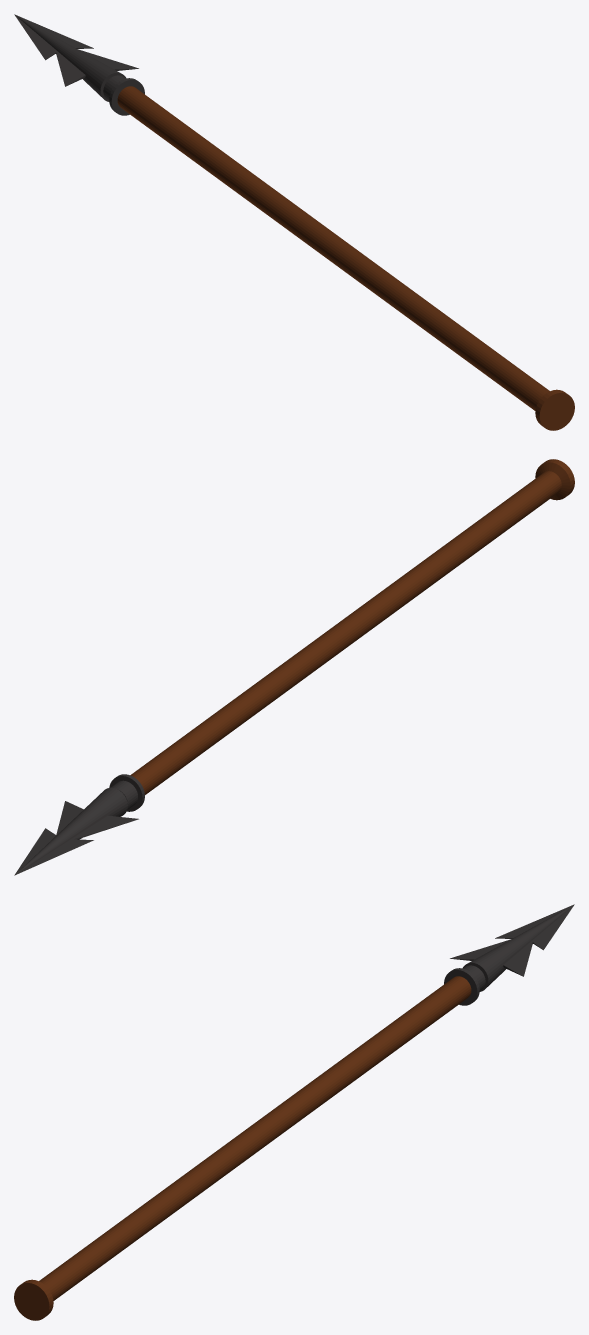
File: Flecha.fbx
3 renders of one model, top to bottom at view 1: azimuth 30°, elevation 25°; view 2: azimuth 150°, elevation 25°; view 3: azimuth 330°, elevation 25°, orthographic.
Visible parts, largest first — view 1: Cylinder.003; view 2: Cylinder.003; view 3: Cylinder.003.
Part boxes in pixels (bbox=[...]): Cylinder.003: bbox=[14, 14, 574, 430]; Cylinder.003: bbox=[14, 459, 574, 875]; Cylinder.003: bbox=[14, 904, 574, 1320].
Bounding box in the file's own units: 0.2683 × 0.127 × 3.38.
